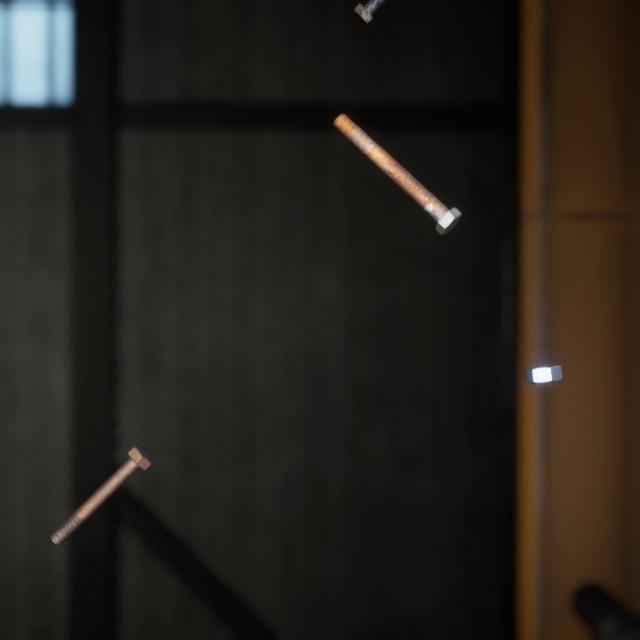bolt: (329, 96, 466, 226), (45, 418, 157, 529), (349, 0, 386, 25)
nut: (521, 341, 567, 369)
